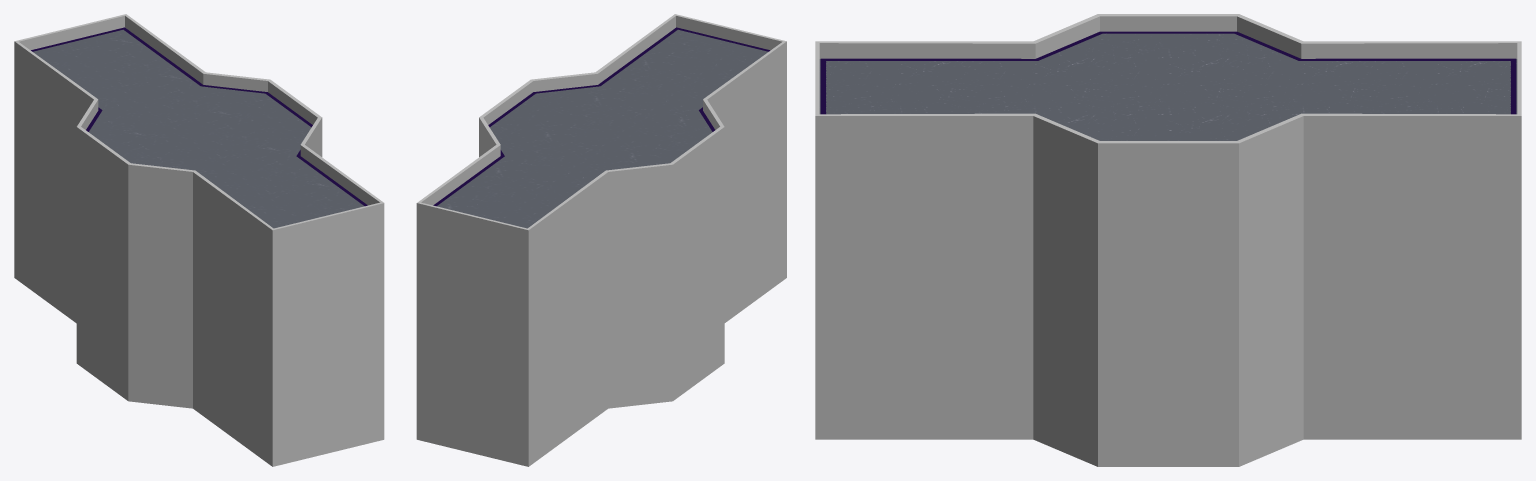
File: Duel_A1_Stage_Starter.fbx
3 renders of one model, left to right at view 1: azimuth 30°, elevation 25°; view 2: azimuth 150°, elevation 25°; view 3: azimuth 270°, elevation 25°, orthographic. The views are drawn at different scales.
Parts seen in each view (by area): view 1: Platform_Cube__1_.003, Platform_Cube__1_.001, Platform_Cube__1_.002; view 2: Platform_Cube__1_.003, Platform_Cube__1_.001, Platform_Cube__1_.002; view 3: Platform_Cube__1_.003, Platform_Cube__1_.001, Platform_Cube__1_.002.
Part boxes in pixels (x1,y1,x2,y2): Platform_Cube__1_.003: (14, 27, 384, 466); Platform_Cube__1_.001: (14, 14, 384, 241); Platform_Cube__1_.002: (31, 27, 367, 206); Platform_Cube__1_.003: (416, 29, 786, 466); Platform_Cube__1_.001: (416, 14, 786, 241); Platform_Cube__1_.002: (433, 27, 770, 206); Platform_Cube__1_.003: (815, 33, 1521, 466); Platform_Cube__1_.001: (815, 14, 1521, 159); Platform_Cube__1_.002: (820, 31, 1516, 114).
Bounding box in the file's own units: 2600 × 3034 × 6000.
